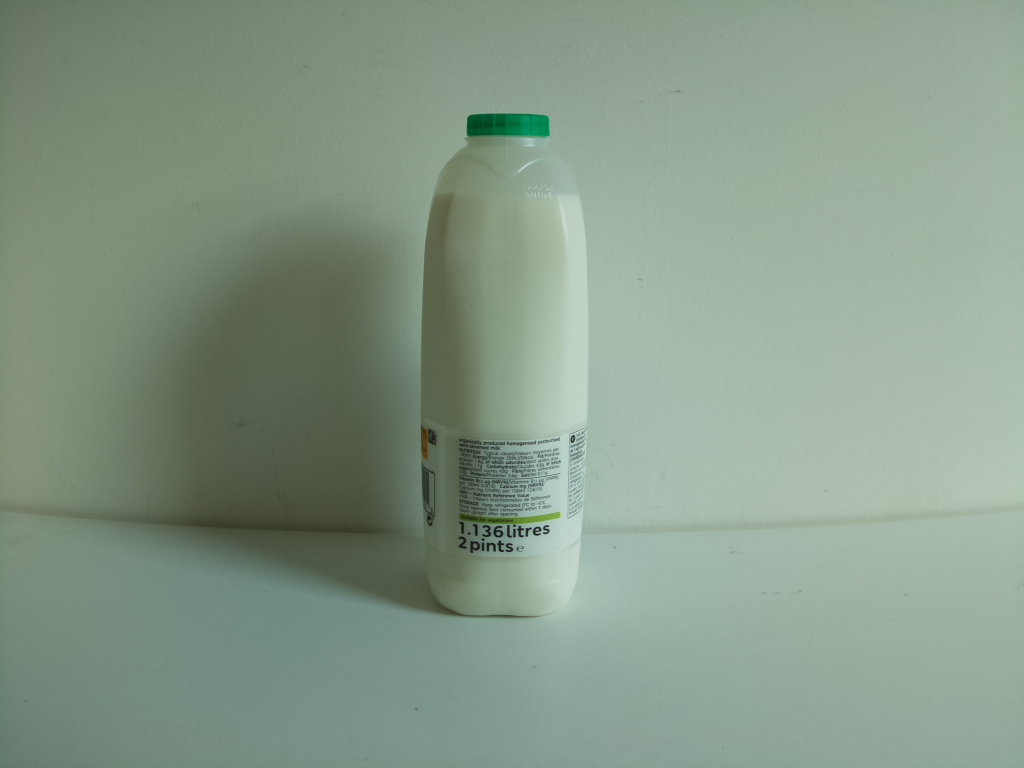milk: (417, 105, 594, 621)
